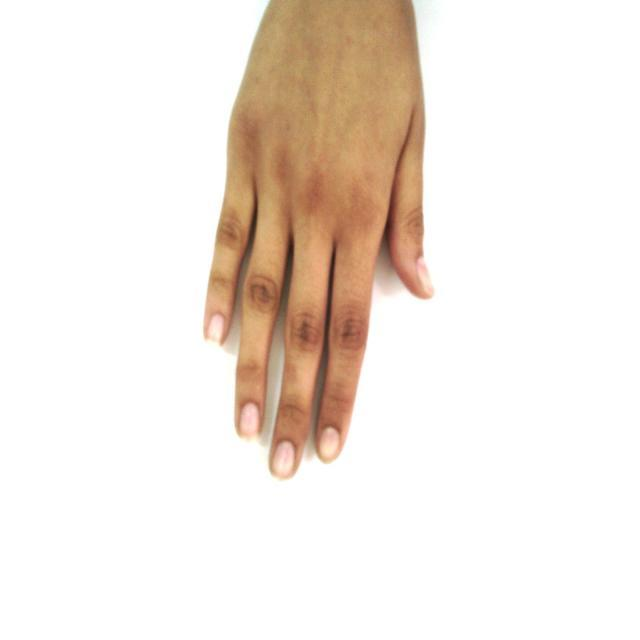Fingernail: (273, 441, 295, 477), (240, 403, 259, 439), (319, 427, 339, 461), (418, 258, 433, 294), (207, 315, 225, 344)
